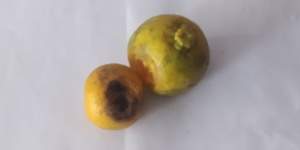BAD: (128, 11, 210, 96), (86, 65, 143, 127)
